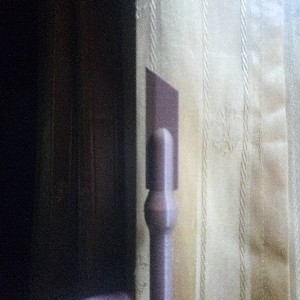cutter: (142, 64, 181, 300)
